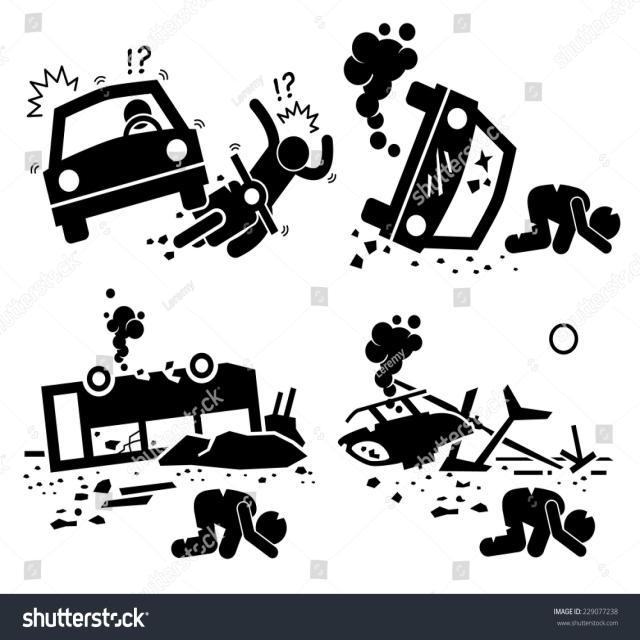Accident: (30, 51, 335, 274), (342, 314, 612, 560), (28, 335, 314, 556), (352, 81, 623, 277)
